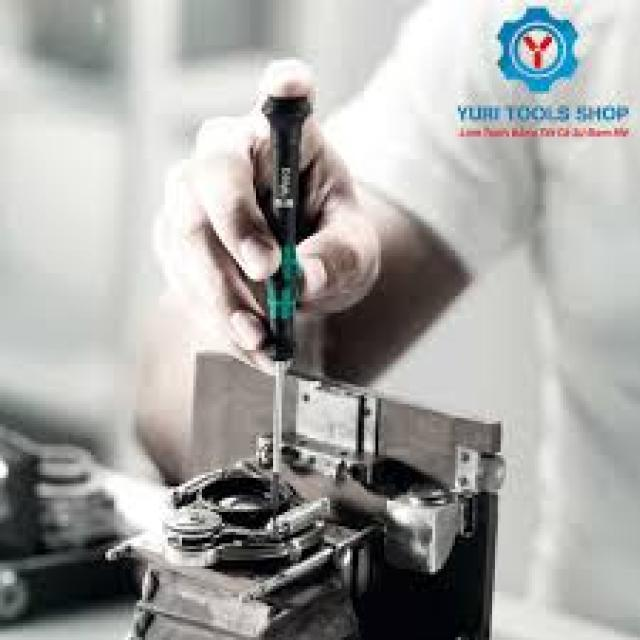screwdriver: (253, 92, 313, 522)
